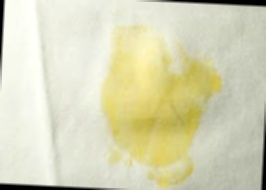mustard: (102, 33, 227, 190)
